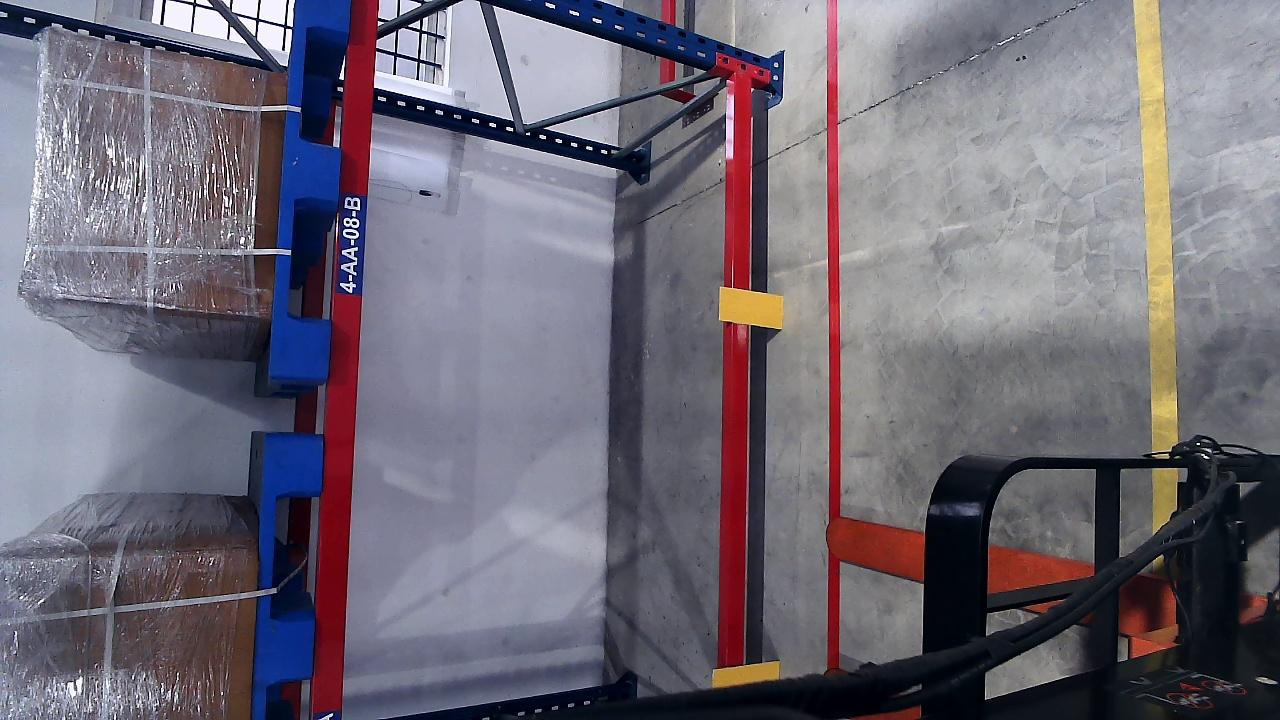h_rack: (304, 1, 380, 720), (718, 72, 758, 684)
orange_strip: (719, 285, 784, 328), (711, 661, 780, 688)
red_line: (821, 0, 842, 665)
small_pallet: (272, 0, 345, 378), (256, 432, 329, 720)
yellow_line: (1134, 0, 1181, 454)
